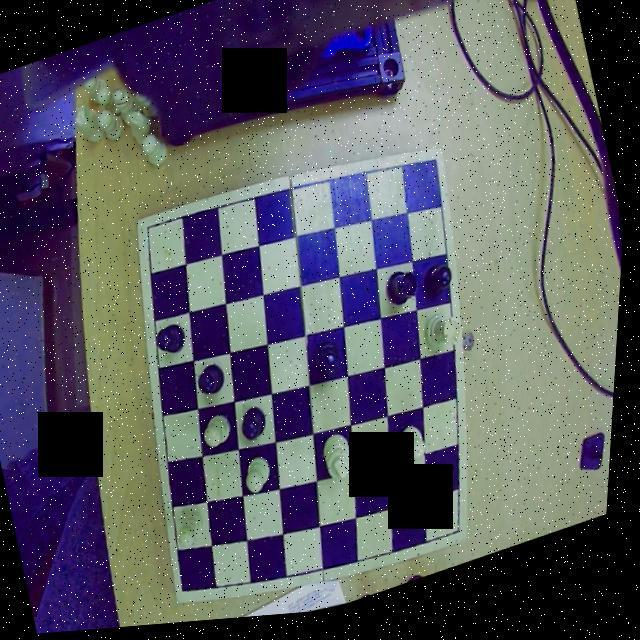chess-table-corners: (419, 154, 450, 188), (139, 213, 169, 246), (178, 574, 205, 609), (448, 526, 475, 556)
